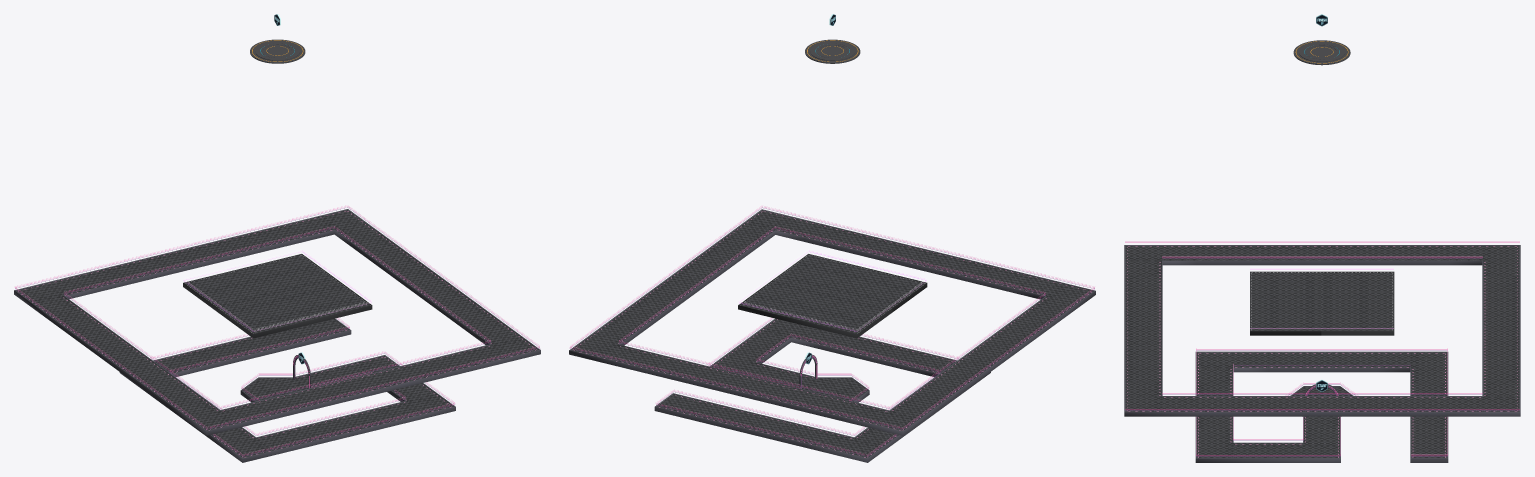
File: map7.glb
3 renders of one model, left to right at view 1: azimuth 30°, elevation 25°; view 2: azimuth 150°, elevation 25°; view 3: azimuth 270°, elevation 25°, orthographic. The views are drawn at different scales.
Visible parts, largest first — view 1: PlatformBig, Platform1_4.006, Platform1_4.002, Platform1_4.003, Platform1_4.004, Platform1_4.005, Platform1_4.001, StartArea, Platform1_4, PlatformBack, Platform1_4.007, Platform1_1.031 (+35 smaller); view 2: PlatformBig, Platform1_4.004, Platform1_4.003, Platform1_4.002, Platform1_4.006, Platform1_4.007, Platform1_4.001, Platform1_4, StartArea, PlatformBack, Platform1_1.041, Platform1_1.006 (+35 smaller); view 3: PlatformBig, Platform1_4.001, Platform1_4.002, Platform1_4.003, Platform1_4.007, Platform1_4.005, Platform1_4, Platform1_4.004, Platform1_4.006, PlatformBack, Platform1_1.016, Platform1_1.025 (+37 smaller).
Boxes of the visible parts, box(x1,y1,x2,y2) form: PlatformBig: box(183, 249, 372, 338); Platform1_4.006: box(171, 395, 268, 435); Platform1_4.002: box(461, 321, 540, 368); Platform1_4.003: box(287, 205, 382, 246); Platform1_4.004: box(14, 272, 93, 320); Platform1_4.005: box(207, 426, 303, 462); Platform1_4.001: box(376, 382, 455, 425); StartArea: box(240, 352, 311, 402); Platform1_4: box(324, 351, 402, 392); PlatformBack: box(250, 39, 305, 63); Platform1_4.007: box(119, 350, 199, 398); Platform1_1.031: box(310, 377, 358, 405); PlatformBig: box(738, 249, 927, 338); Platform1_4.004: box(841, 394, 938, 435); Platform1_4.003: box(569, 321, 648, 369); Platform1_4.002: box(727, 206, 822, 246); Platform1_4.006: box(1016, 272, 1095, 320); Platform1_4.007: box(806, 426, 903, 462); Platform1_4.001: box(742, 318, 836, 354); Platform1_4: box(708, 339, 786, 381); StartArea: box(799, 352, 869, 402); PlatformBack: box(805, 39, 860, 63); Platform1_1.041: box(654, 389, 703, 418); Platform1_1.006: box(804, 220, 852, 249); PlatformBig: box(1250, 268, 1394, 335); Platform1_4.001: box(1195, 424, 1268, 462); Platform1_4.002: box(1124, 381, 1197, 416); Platform1_4.003: box(1447, 381, 1520, 416); Platform1_4.007: box(1375, 348, 1448, 382); Platform1_4.005: box(1195, 348, 1268, 382); Platform1_4: box(1268, 424, 1340, 462); Platform1_4.004: box(1447, 241, 1520, 275); Platform1_4.006: box(1124, 241, 1197, 275); PlatformBack: box(1293, 40, 1350, 65); Platform1_1.016: box(1340, 349, 1375, 372); Platform1_1.025: box(1304, 349, 1339, 372).
Size of what is drawn, in the model's own units: 66.4 by 72.2 by 66.4.
Materials: 12 (11 with a texture image).
